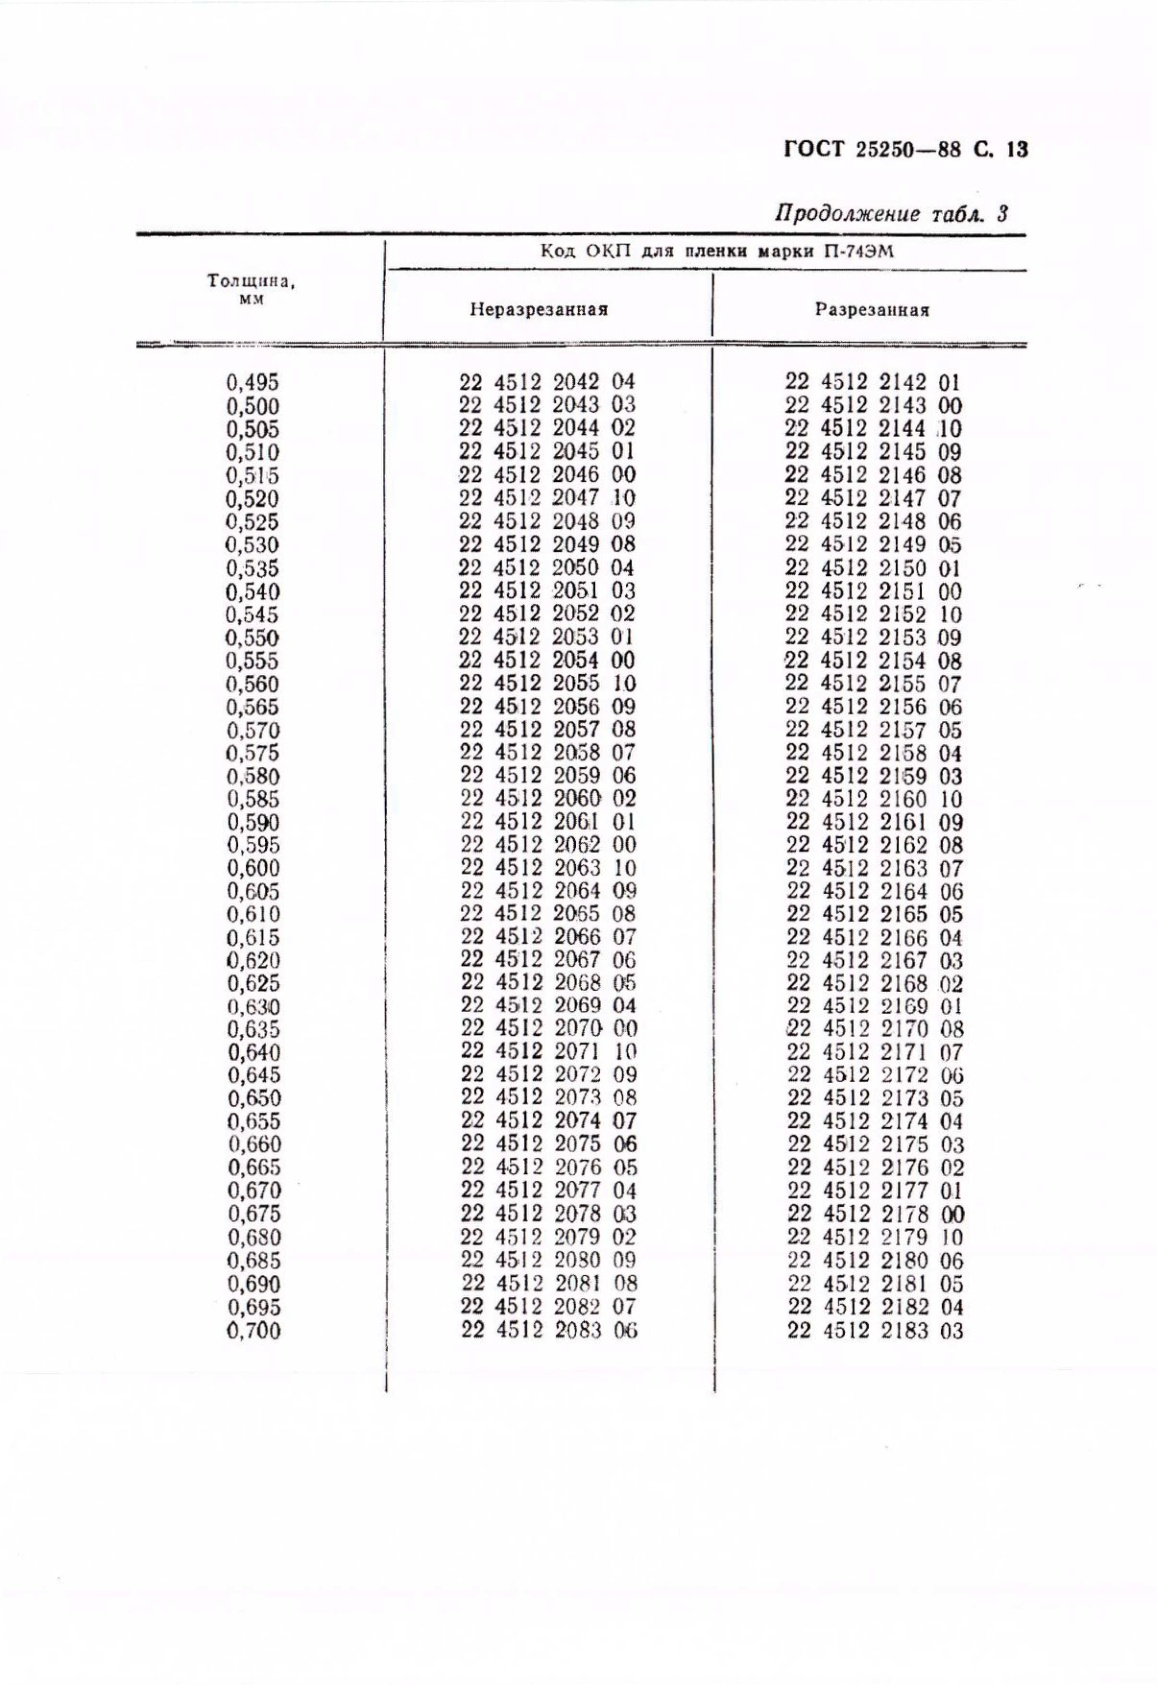partial_lined_merged_cells: (136, 230, 1028, 1396)
